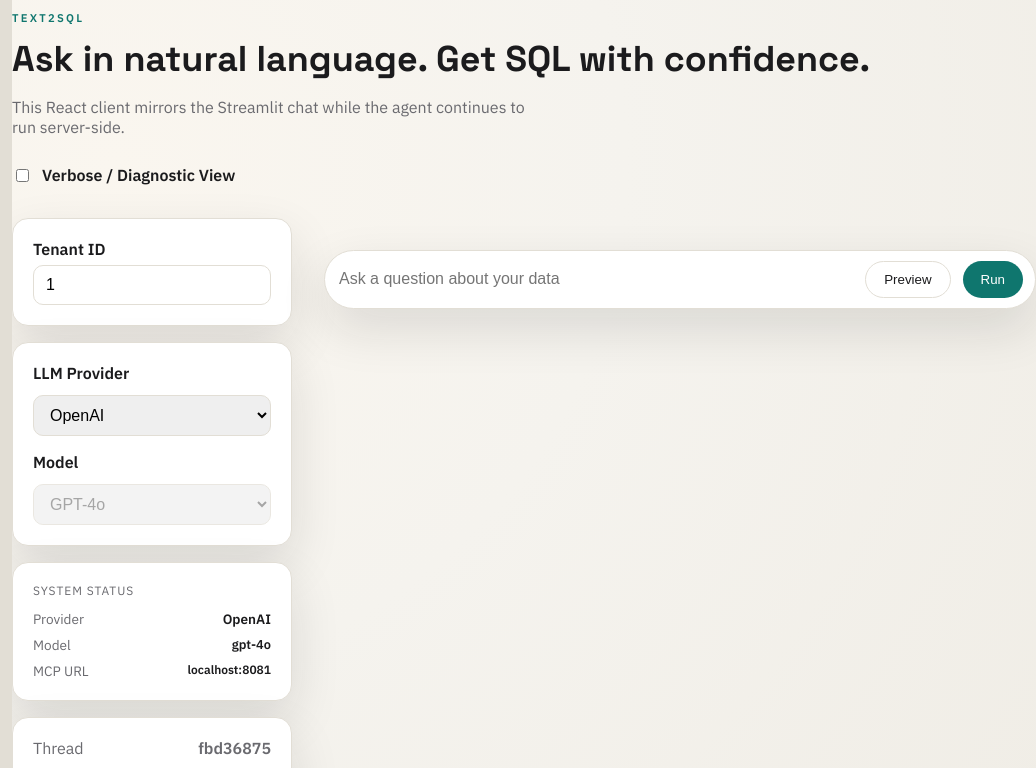
Test: AgentChat streaming › streams progress events and renders result
Type "How many users?" into the field with placeholder "Ask a question about your data" at (595, 279), box left=337, top=261, right=853, bottom=298
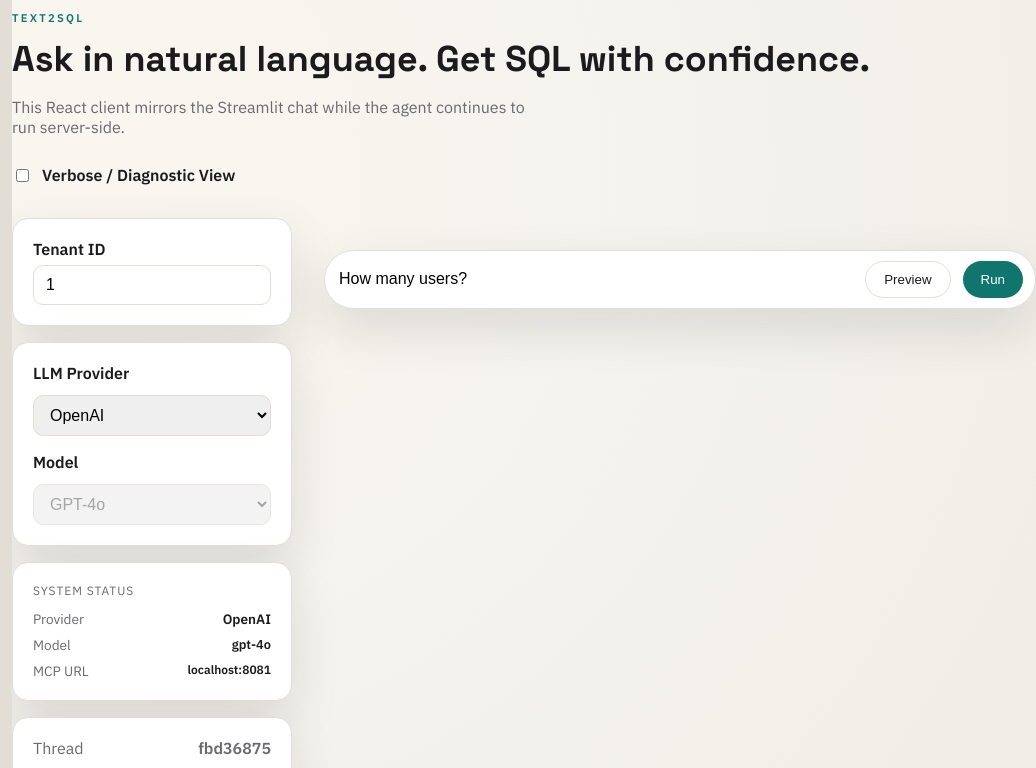
Submit the form with placeholder "ask a question", box left=324, top=250, right=1035, bottom=309
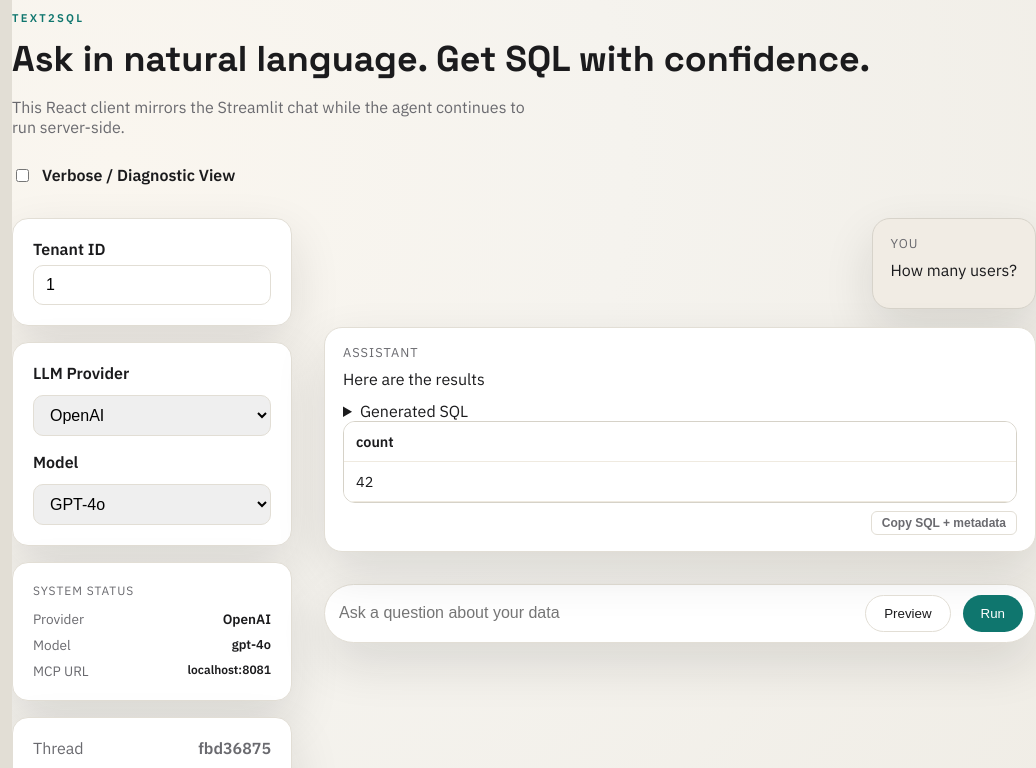
Expected: the text "Here are the results" is shown, left=343, top=369, right=485, bottom=389
Expected: the text "42" is shown, left=344, top=461, right=1016, bottom=501
